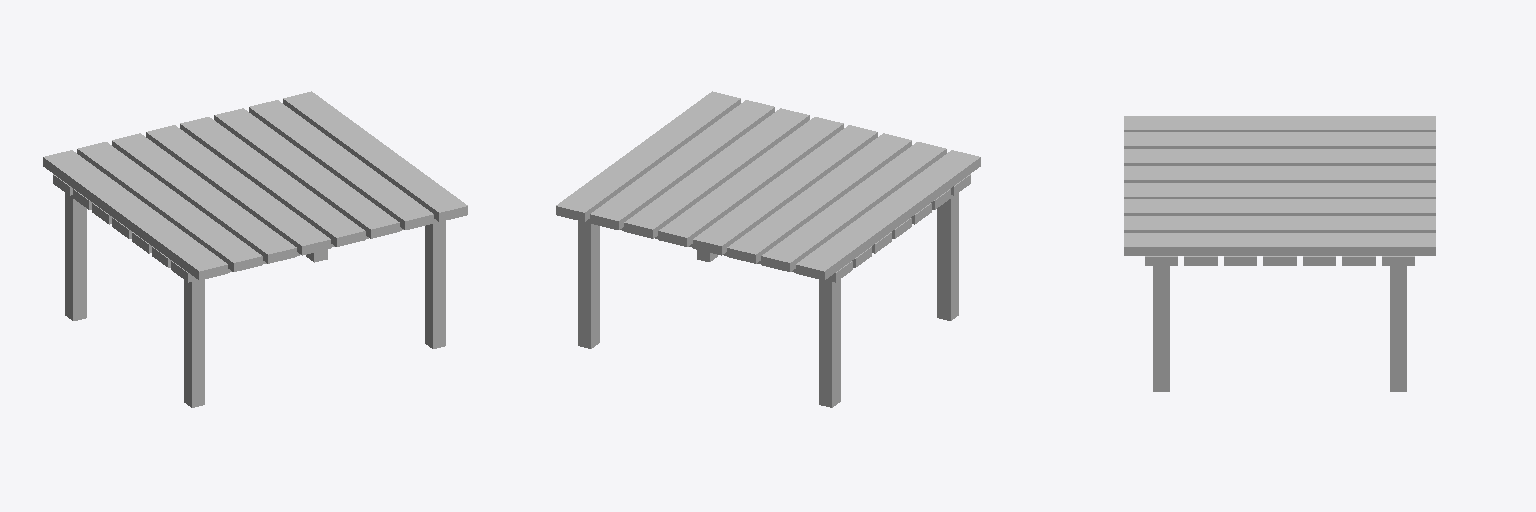
File: wood floor 1.obj
3 renders of one model, left to right at view 1: azimuth 30°, elevation 25°; view 2: azimuth 150°, elevation 25°; view 3: azimuth 270°, elevation 25°, orthographic.
Visible parts, largest first — view 1: Cube_Cube.003; view 2: Cube_Cube.003; view 3: Cube_Cube.003.
Part boxes in pixels (left/top/right/bottom): Cube_Cube.003: left=43, top=91, right=467, bottom=407; Cube_Cube.003: left=556, top=91, right=980, bottom=407; Cube_Cube.003: left=1124, top=116, right=1435, bottom=391.
Bounding box in the file's own units: 3.56 × 1.87 × 3.56.